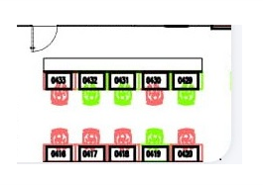Seat: (47, 80, 72, 108), (78, 80, 103, 108), (110, 80, 135, 108), (141, 80, 166, 108), (173, 80, 198, 108), (174, 122, 199, 150), (142, 122, 167, 150), (109, 121, 134, 149), (78, 122, 103, 150), (47, 122, 72, 150)
